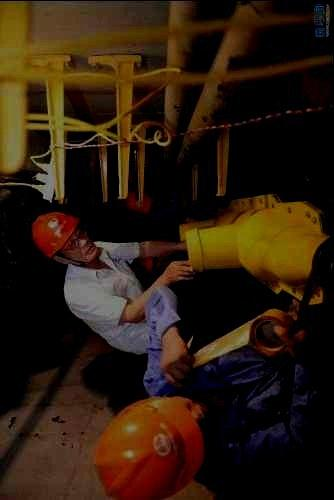helmet: (90, 395, 211, 500), (30, 211, 97, 265)
